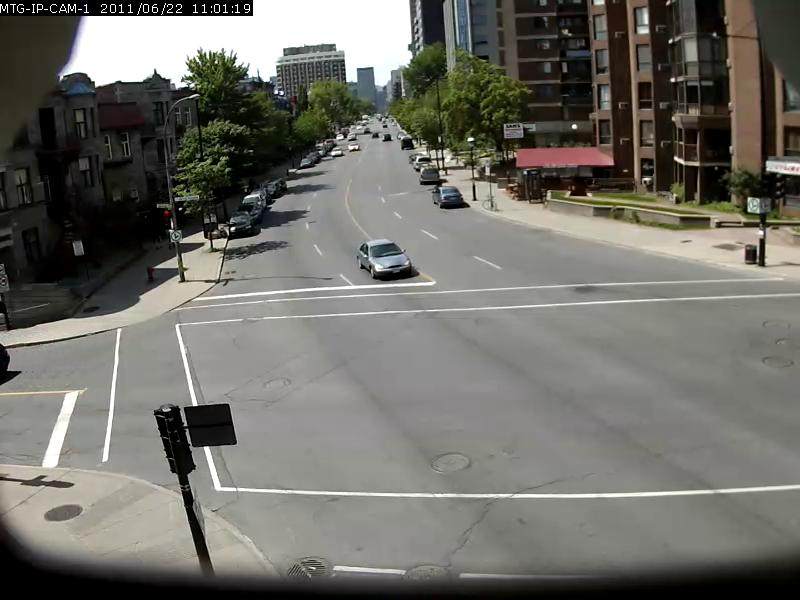Car: (354, 237, 415, 281)
